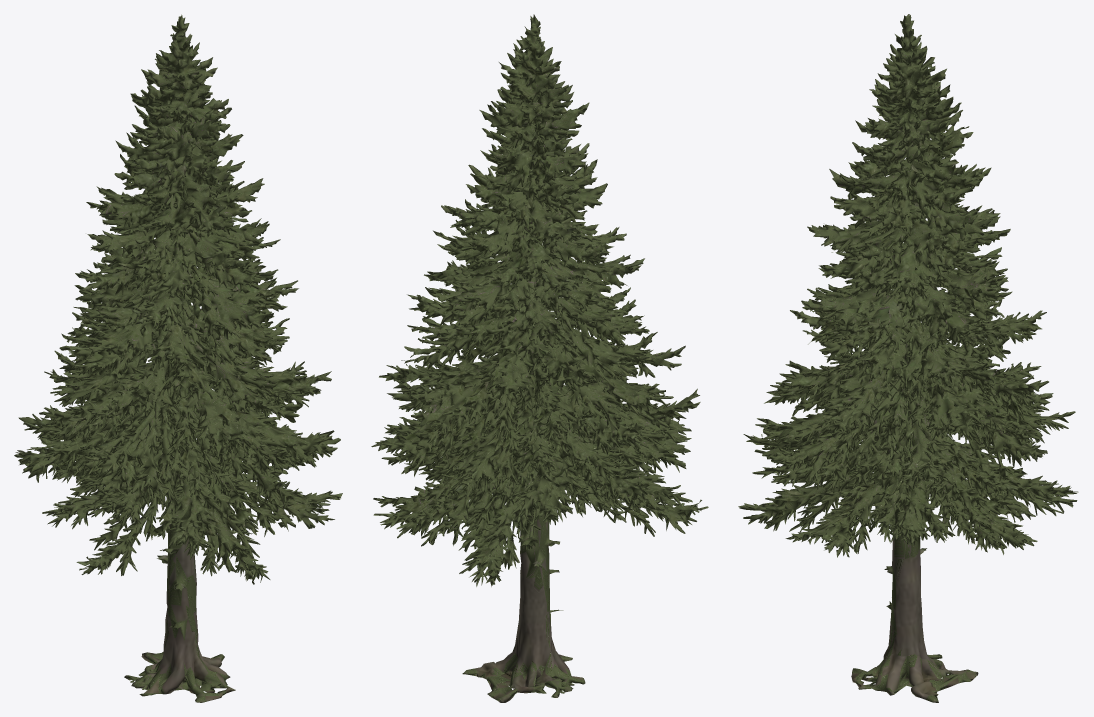
Rendered from tree_pine.glb.
3 views of the same model, side by side, from view 1: azimuth 30°, elevation 25°; view 2: azimuth 150°, elevation 25°; view 3: azimuth 270°, elevation 25° (orthographic).
Visible parts, largest first — view 1: tree_pine; view 2: tree_pine; view 3: tree_pine.
Part boxes in pixels (<box>): tree_pine: <box>14,14,342,702</box>; tree_pine: <box>371,14,708,702</box>; tree_pine: <box>738,14,1078,702</box>.
Size of the model in its own units: 0.8946 by 1.9 by 0.8894.
1 material, 1 textured.
